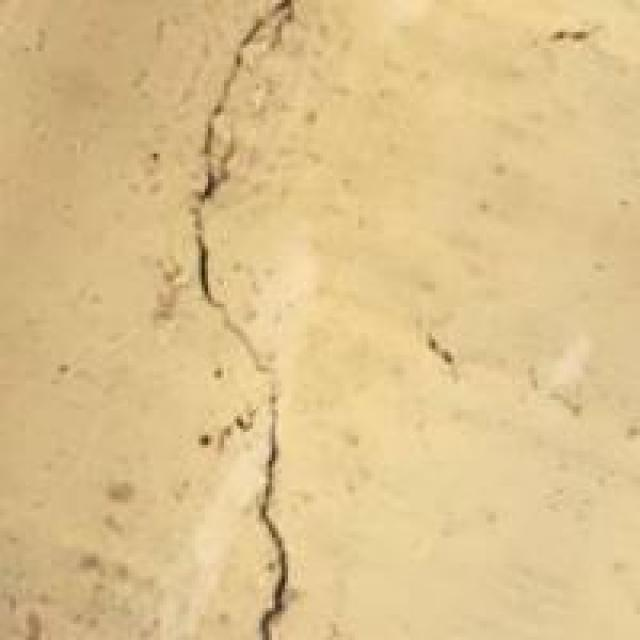Crack: (154, 0, 378, 637)
